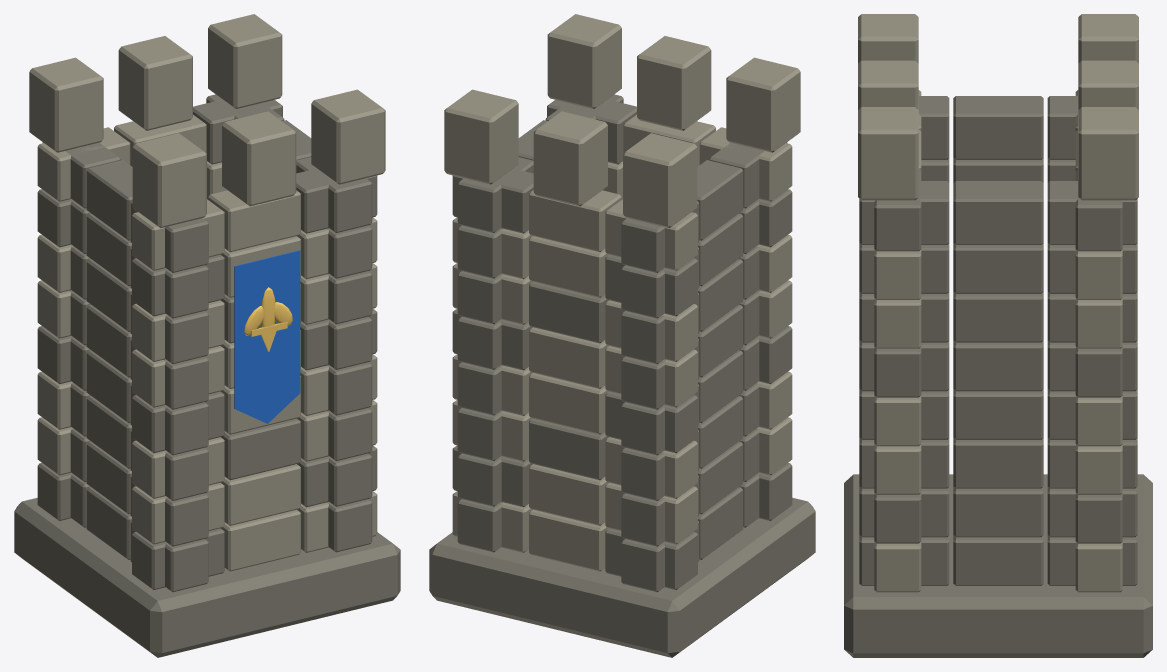
Rendered from prop_watchtower_blue.glb.
The picture shows the model from 3 angles, left to right: view 1: azimuth 30°, elevation 25°; view 2: azimuth 150°, elevation 25°; view 3: azimuth 270°, elevation 25°; orthographic projection. The views are drawn at different scales.
Parts seen in each view (by area): view 1: prop_watchtower_blue; view 2: prop_watchtower_blue; view 3: prop_watchtower_blue.
Part boxes in pixels (box(x1,y1,x2,y2)): prop_watchtower_blue: box(14, 14, 400, 657); prop_watchtower_blue: box(429, 14, 815, 657); prop_watchtower_blue: box(844, 14, 1152, 657).
Bounding box in the file's own units: 2.3 × 4.31 × 2.3.
